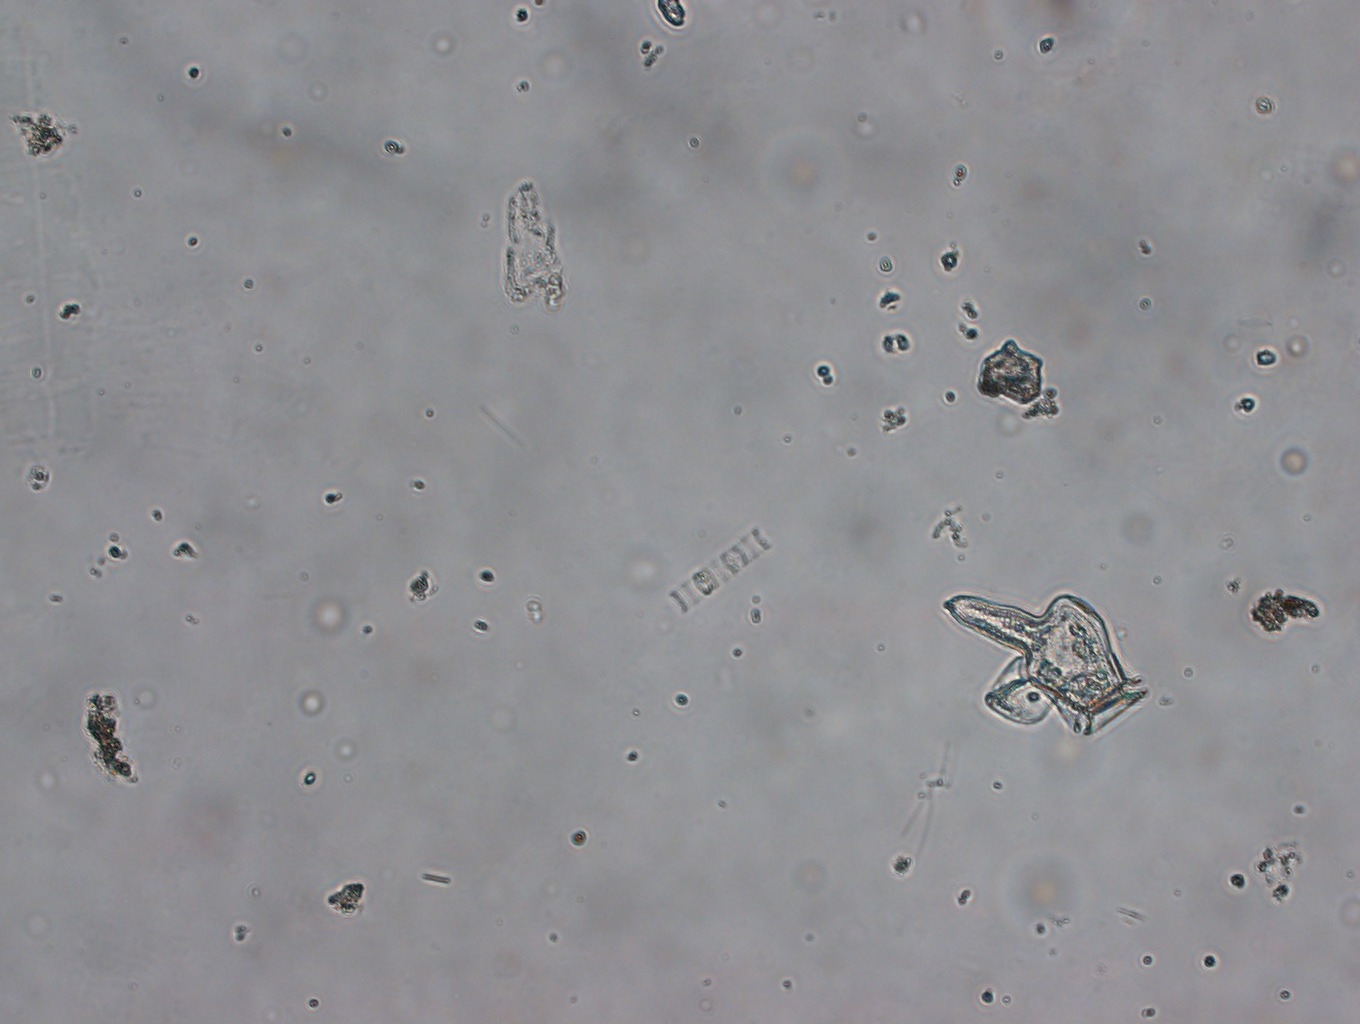dinophysis caudata: (934, 581, 1163, 746)
